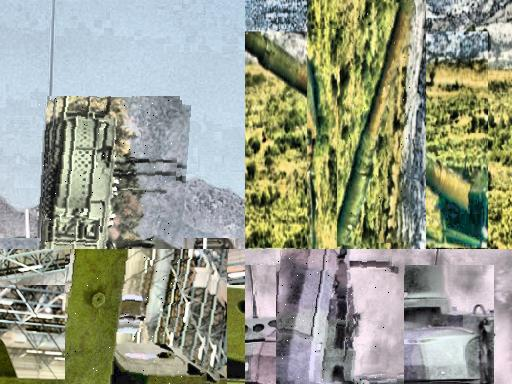tanks: (42, 97, 172, 250), (66, 250, 211, 384), (338, 3, 416, 246), (277, 250, 390, 384), (308, 61, 316, 250)
